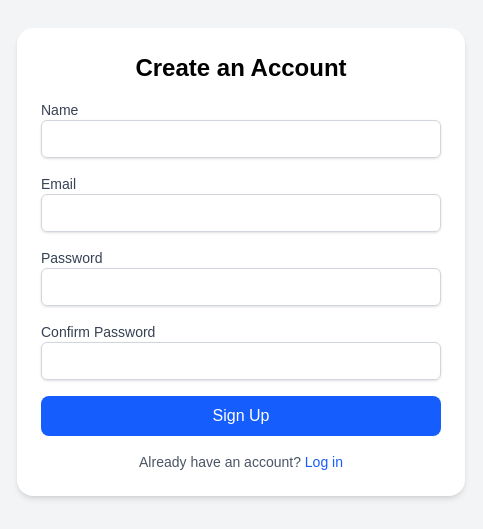
Signup Page - Validation › should show password mismatch error
In the field labelled "Name": [241, 139] box [41, 120, 441, 158], type "Test User"
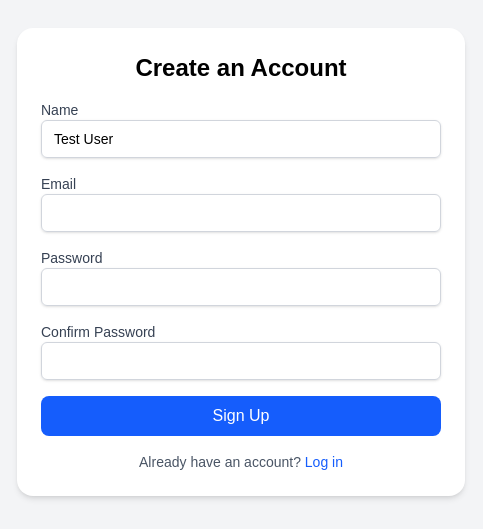
In the field labelled "Email": [241, 213] box [41, 194, 441, 232], type "test@example.com"
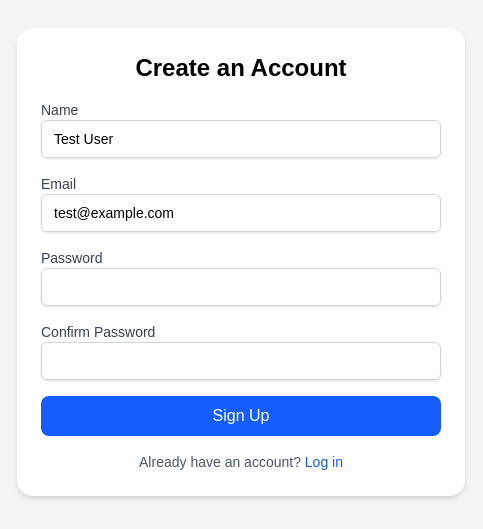
In the password field labelled "Password": [241, 287] box [41, 268, 441, 306], type "password123"
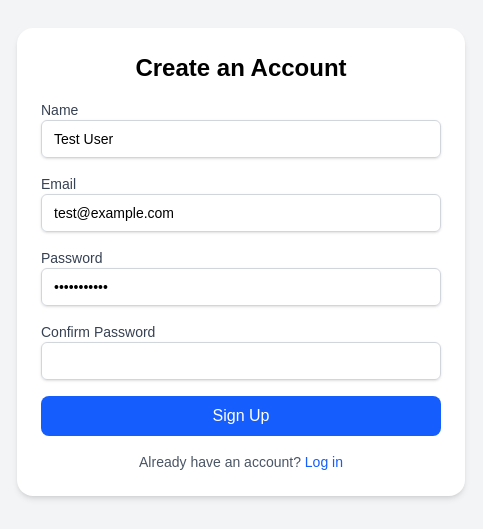
In the password field labelled "Confirm Password": [241, 361] box [41, 342, 441, 380], type "password321"
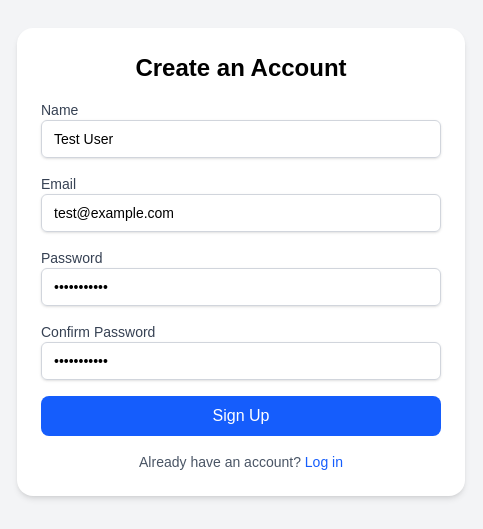
Click the button "Sign Up": [241, 416] box [41, 396, 441, 436]
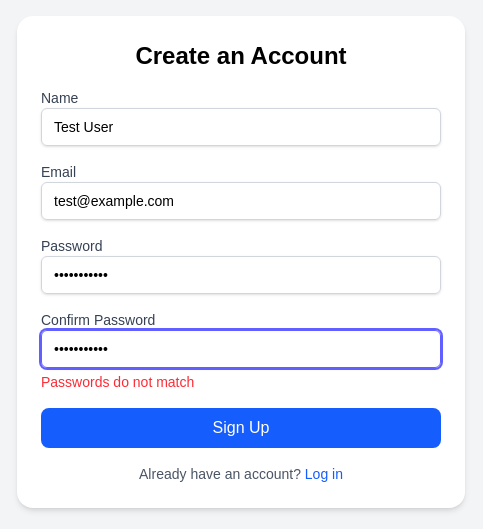
expect the text "Passwords do not match" is shown: met, box [41, 374, 194, 390]
